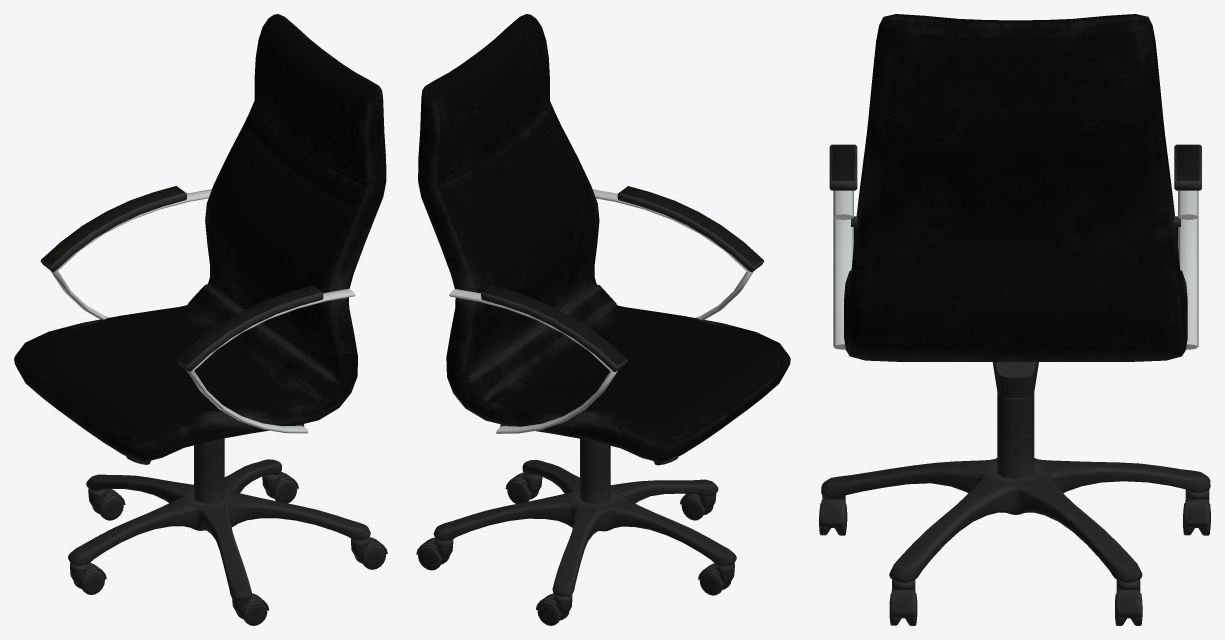
Rendered from Chair.FBX.
The picture shows the model from 3 angles, left to right: view 1: azimuth 30°, elevation 25°; view 2: azimuth 150°, elevation 25°; view 3: azimuth 270°, elevation 25°; orthographic projection. The views are drawn at different scales.
Visible parts, largest first — view 1: chair; view 2: chair; view 3: chair.
Part boxes in pixels (x1,y1,x2,y2): chair: [14, 14, 387, 625]; chair: [416, 14, 790, 625]; chair: [819, 14, 1210, 625].
Bounding box in the file's own units: 24.8 × 41.88 × 24.4.
Materials: 1 (1 with a texture image).
